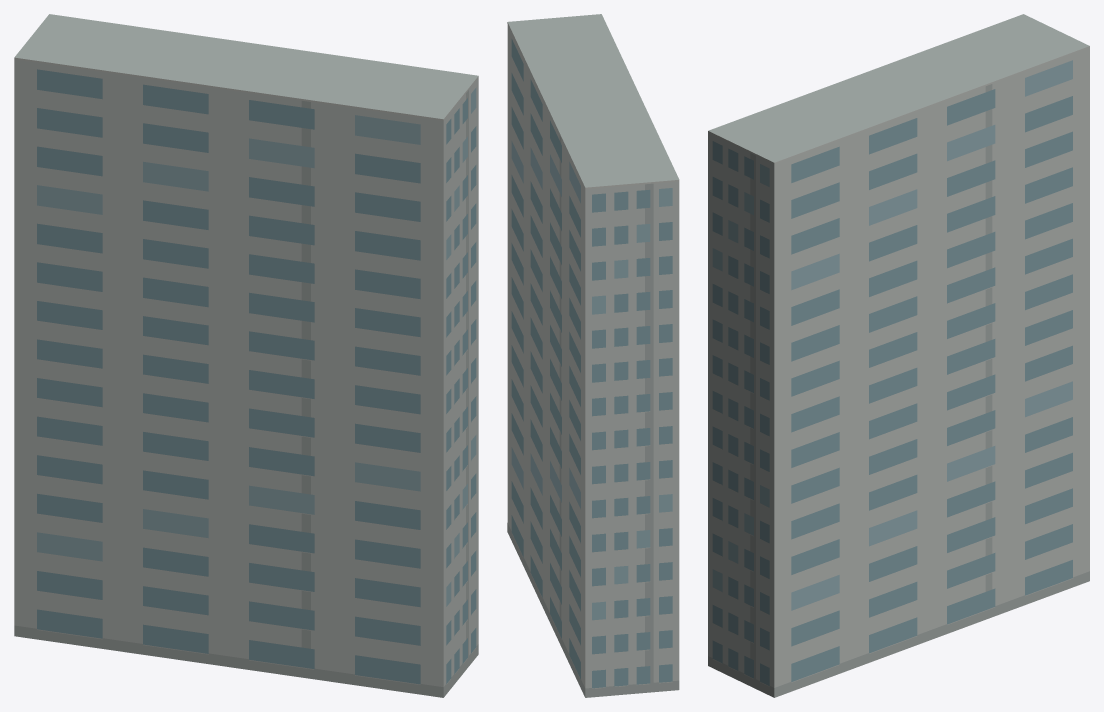
The model's file is residential-f7541969-b82d-4fde-9f1e-df6e79c097ac.glb.
The picture shows the model from 3 angles, left to right: view 1: azimuth 30°, elevation 25°; view 2: azimuth 150°, elevation 25°; view 3: azimuth 270°, elevation 25°; orthographic projection. The views are drawn at different scales.
Parts seen in each view (by area): view 1: residential-f7541969-b82d-4fde-9f1e-df6e79c097ac.tmp; view 2: residential-f7541969-b82d-4fde-9f1e-df6e79c097ac.tmp; view 3: residential-f7541969-b82d-4fde-9f1e-df6e79c097ac.tmp.
Part boxes in pixels (x1,y1,x2,y2): residential-f7541969-b82d-4fde-9f1e-df6e79c097ac.tmp: (14,14,478,697); residential-f7541969-b82d-4fde-9f1e-df6e79c097ac.tmp: (507,14,679,697); residential-f7541969-b82d-4fde-9f1e-df6e79c097ac.tmp: (708,14,1089,697).
Size of the model in its own units: 45.92 by 77 by 49.8.
